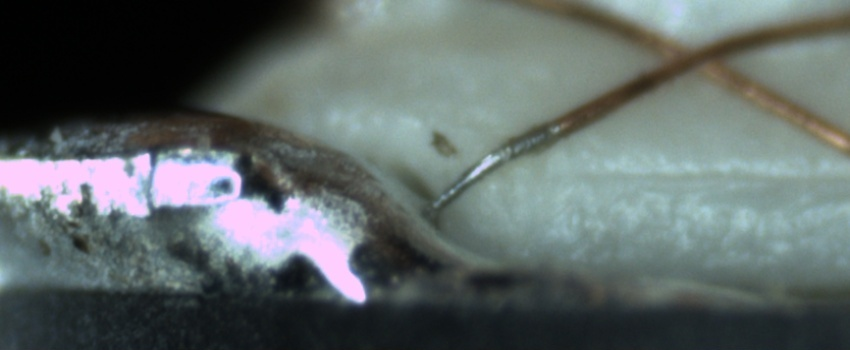CL: (648, 29, 739, 87)
DL: (507, 144, 850, 208)
TS: (433, 124, 557, 212)
TTCW: (430, 104, 601, 211)
